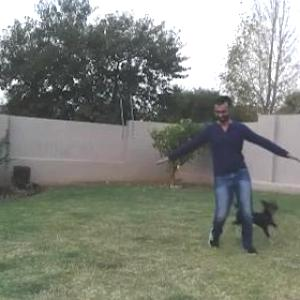land: (144, 90, 296, 258)
